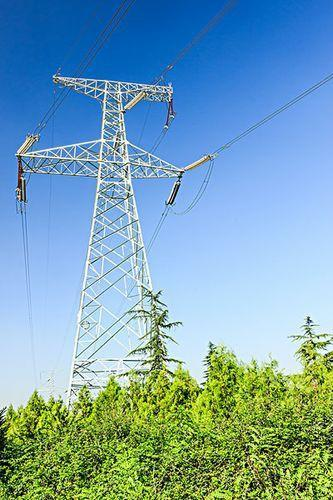power_tower: (10, 66, 210, 409)
